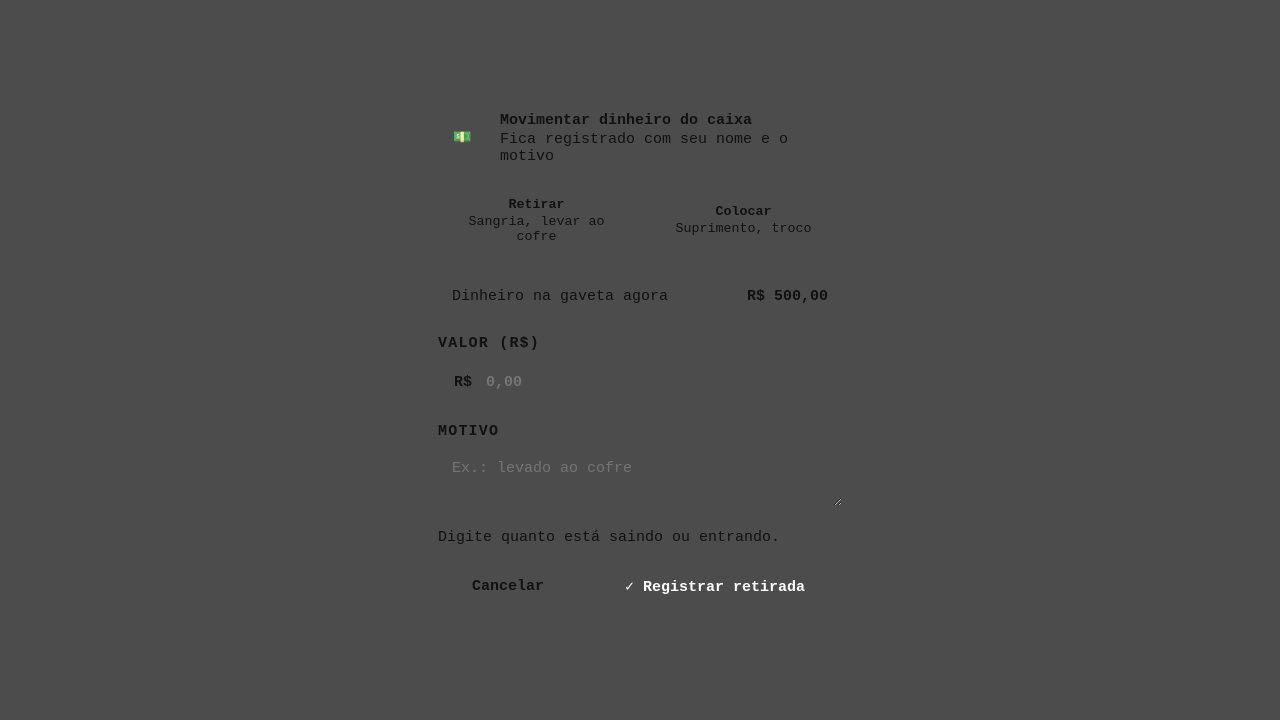
Test case: MovimentoCaixaModal, autorização acima do limite › suprimento acima do limite não pede senha, pôr dinheiro na gaveta não é risco
The image size is (1280, 720).
Click the button with class "movimento-caixa__tipo" showing "Colocar Suprimento, troco". click: point(744, 220)
box: [645, 182, 842, 258]
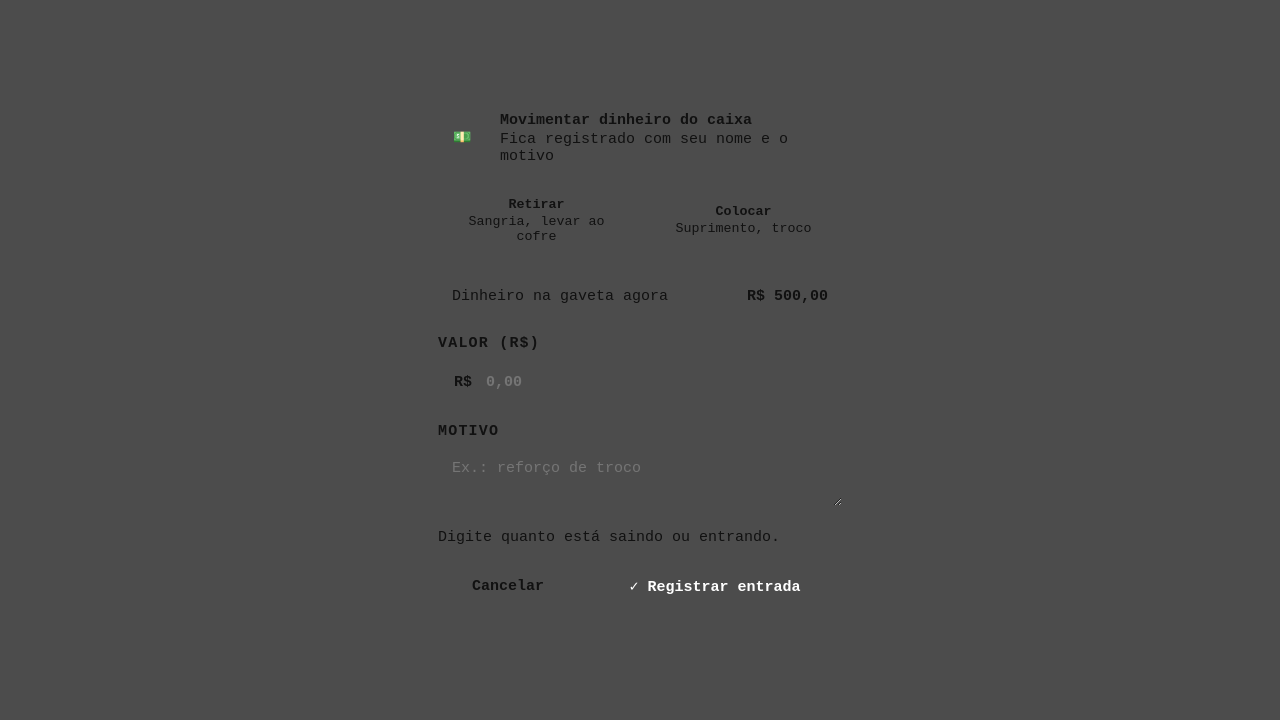
Type "300" into the number field with class "movimento-caixa__input". click: point(640, 382)
box: [438, 360, 842, 404]
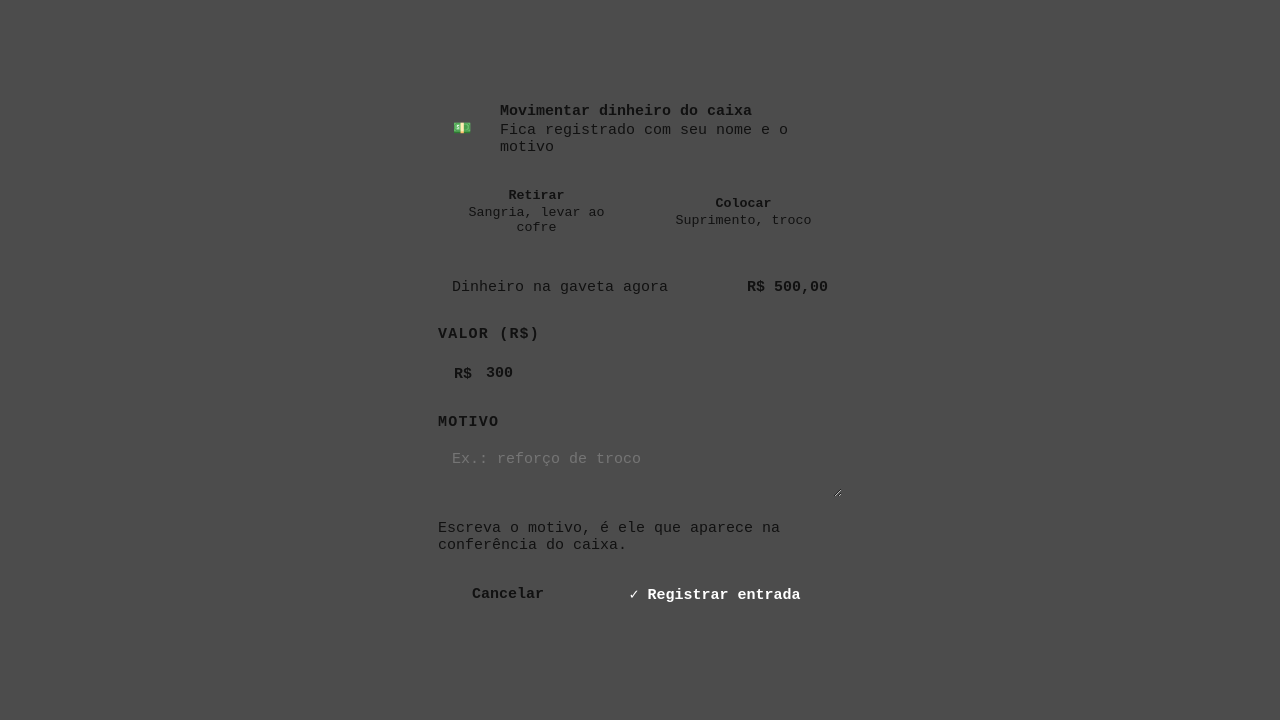
Type "reforço de troco" into the text box with class "movimento-caixa__textarea". click: point(640, 468)
box: [438, 439, 842, 497]
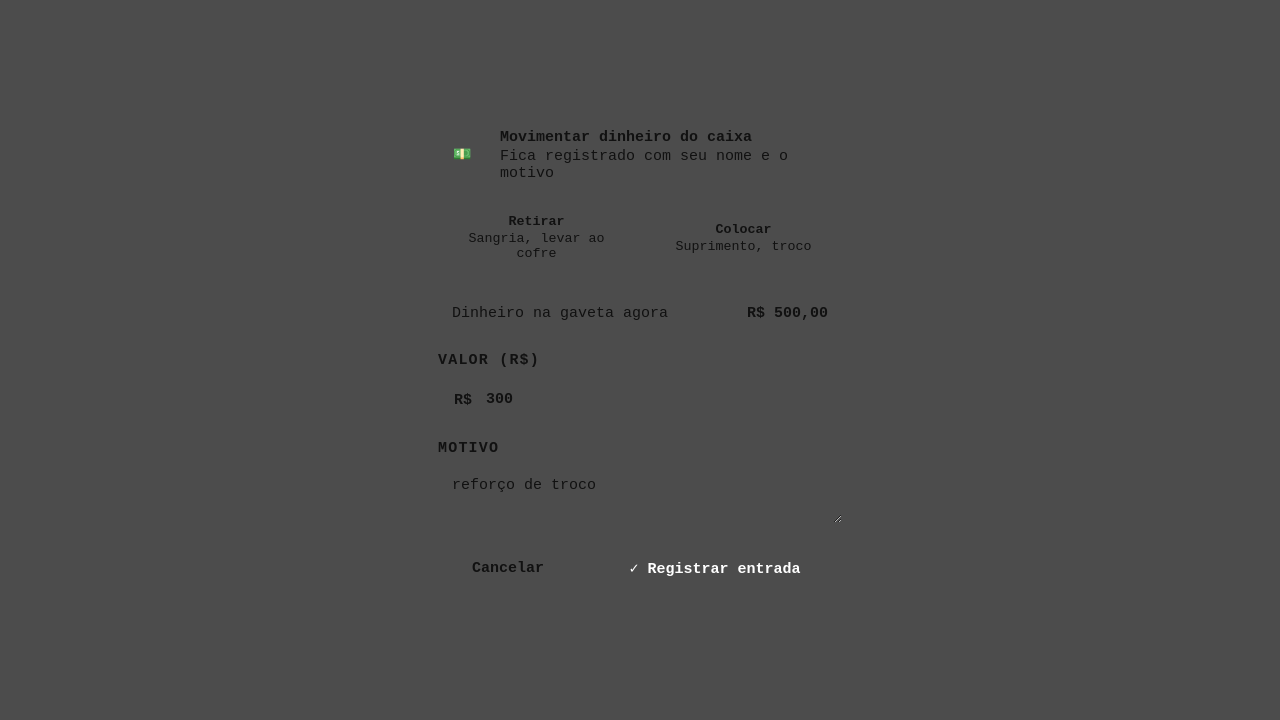
Expected: the button with class "movimento-caixa__botao-confirmar" is enabled, [588, 546, 842, 591]
